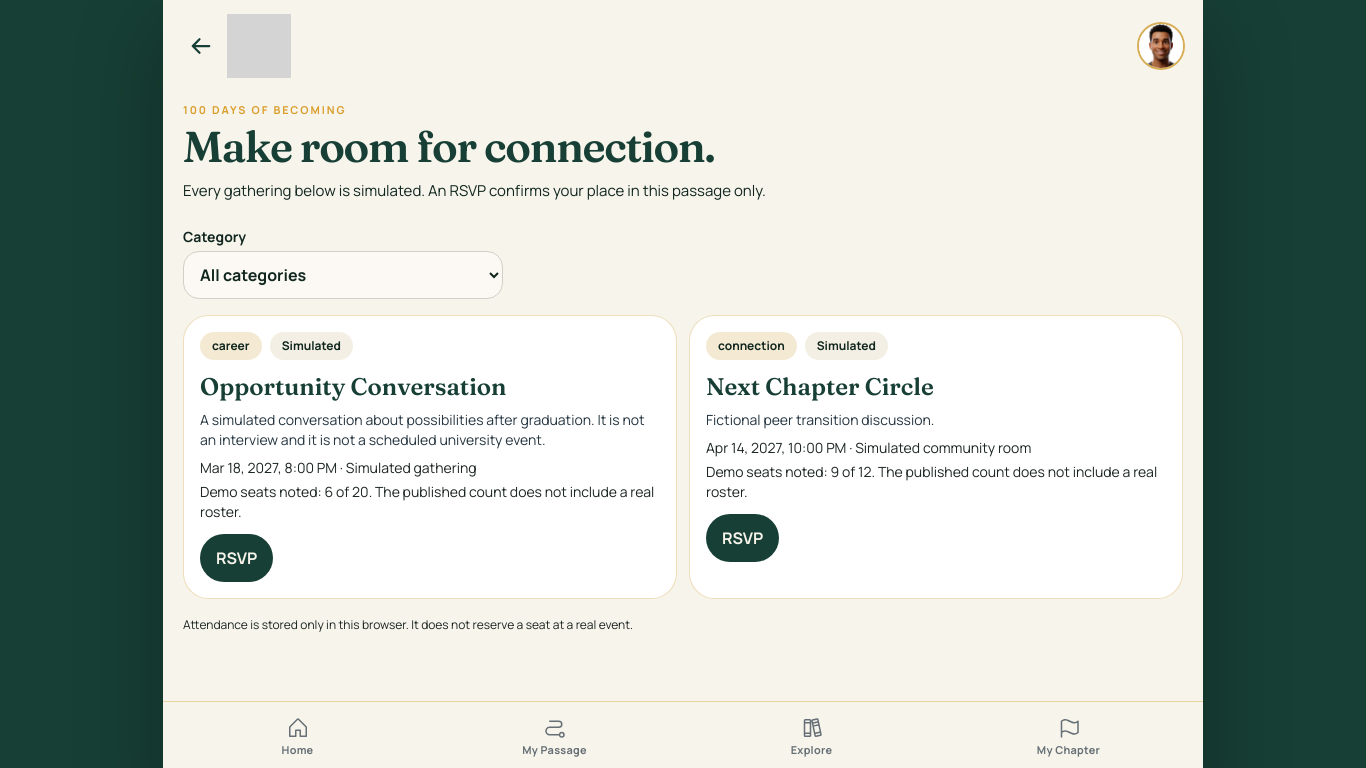
Test: completed passage features › saves and cancels a simulated RSVP
This screenshot has width=1366, height=768.
Click the button "RSVP" below "career": {"x": 237, "y": 558} 200,534 -> 273,582
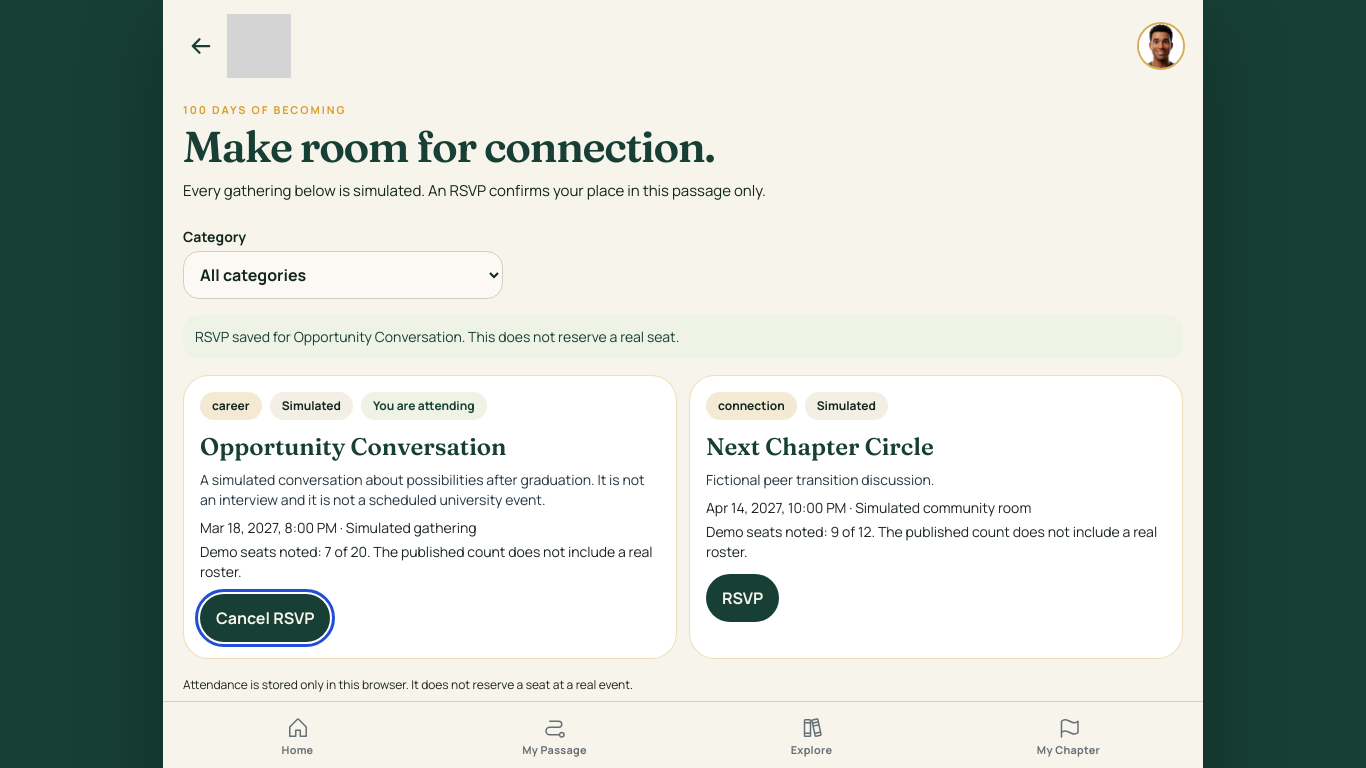
Result: the message shows "RSVP saved" at 195,327 -> 679,346
Click the button "Cancel RSVP": {"x": 265, "y": 618} 200,594 -> 330,642
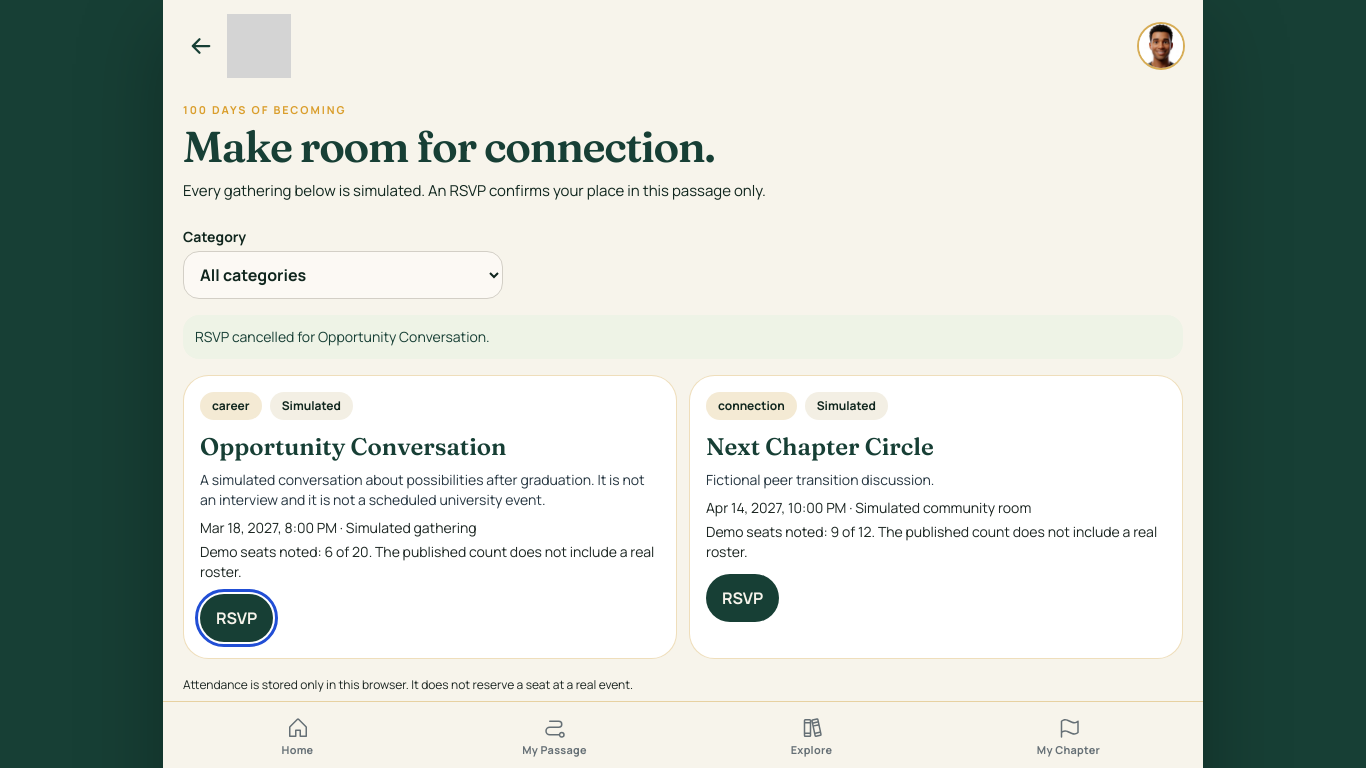
Result: the message shows "RSVP cancelled" at 195,327 -> 490,346
